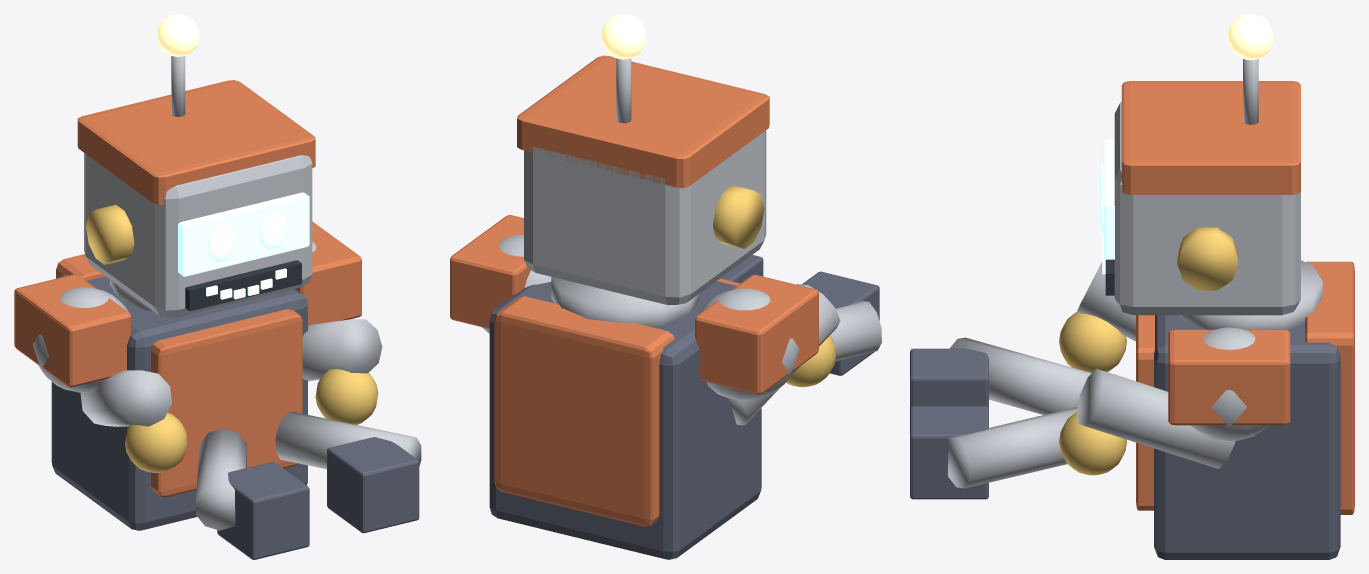
The model's file is driver_robot_r45_backup.glb.
The picture shows the model from 3 angles, left to right: view 1: azimuth 30°, elevation 25°; view 2: azimuth 150°, elevation 25°; view 3: azimuth 270°, elevation 25°; orthographic projection. The views are drawn at different scales.
Parts seen in each view (by area): view 1: D_Chest, D_HelmTop, D_Head, D_Torso, D_Pad, D_Glove.001, D_Glove, D_Visor, D_Pad.001, D_Upper, D_Lower.001, D_Upper.001 (+12 smaller); view 2: D_Back, D_Head, D_Torso, D_HelmTop, D_Pad, D_Pad.001, D_Neck, D_Ear, D_Lower, D_Glove, D_Shoulder, D_Bulb (+5 smaller); view 3: D_Torso, D_Head, D_HelmTop, D_Pad.001, D_Upper.001, D_Lower.001, D_Back, D_Glove.001, D_Lower, D_Glove, D_Ear.001, D_Elbow (+8 smaller).
Part boxes in pixels (x1,y1,x2,y2): D_Chest: (151,309,302,497); D_HelmTop: (77,80,315,204); D_Head: (84,153,312,317); D_Torso: (51,274,307,530); D_Pad: (14,274,130,387); D_Glove.001: (327,437,419,533); D_Glove: (217,461,309,559); D_Visor: (178,192,309,276); D_Pad.001: (295,221,361,325); D_Upper: (80,370,172,426); D_Lower.001: (275,412,421,469); D_Upper.001: (302,319,382,381); D_Back: (494,296,674,526); D_Head: (524,130,766,305); D_Torso: (489,281,761,559); D_HelmTop: (517,55,769,188); D_Pad: (695,274,818,394); D_Pad.001: (450,215,530,328); D_Neck: (551,277,699,326); D_Ear: (713,185,764,248); D_Lower: (830,301,881,361); D_Glove: (802,271,879,375); D_Shoulder: (697,288,799,400); D_Bulb: (601,14,646,59); D_Torso: (1154,315,1340,559); D_Head: (1114,101,1300,315); D_HelmTop: (1121,81,1300,194); D_Pad.001: (1168,329,1290,425); D_Upper.001: (1076,368,1235,468); D_Lower.001: (948,407,1077,488); D_Back: (1305,261,1354,514); D_Glove.001: (910,406,988,499); D_Lower: (950,337,1091,414); D_Glove: (910,348,988,408); D_Ear.001: (1177,227,1238,290); D_Elbow: (1059,311,1126,372).
Bounding box in the file's own units: 1.04 × 1.54 × 1.24.
